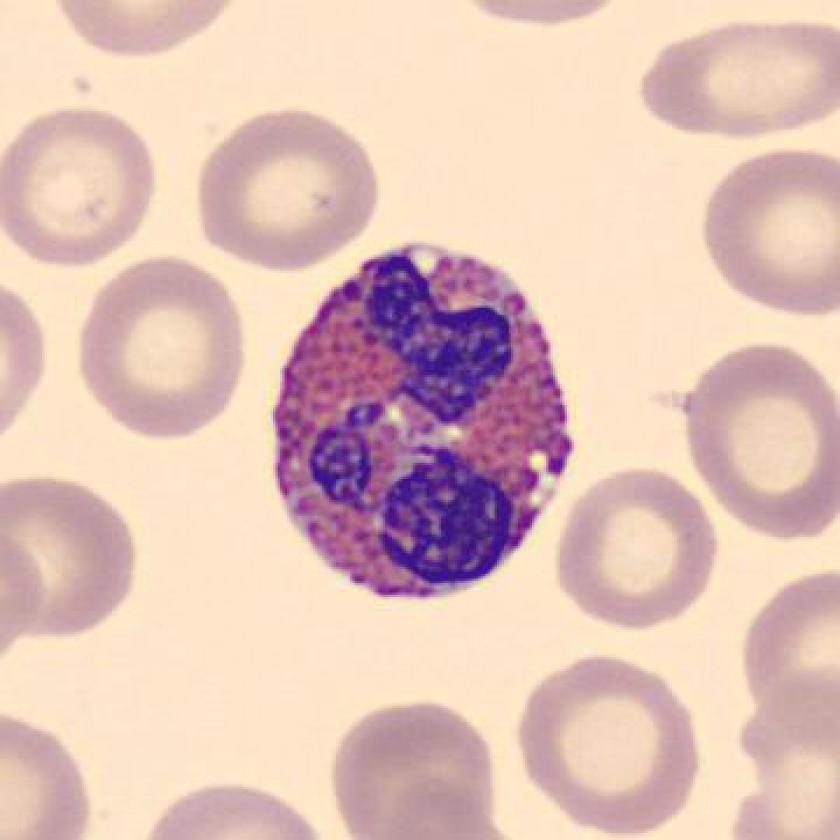eosinophil: (263, 226, 592, 621)
